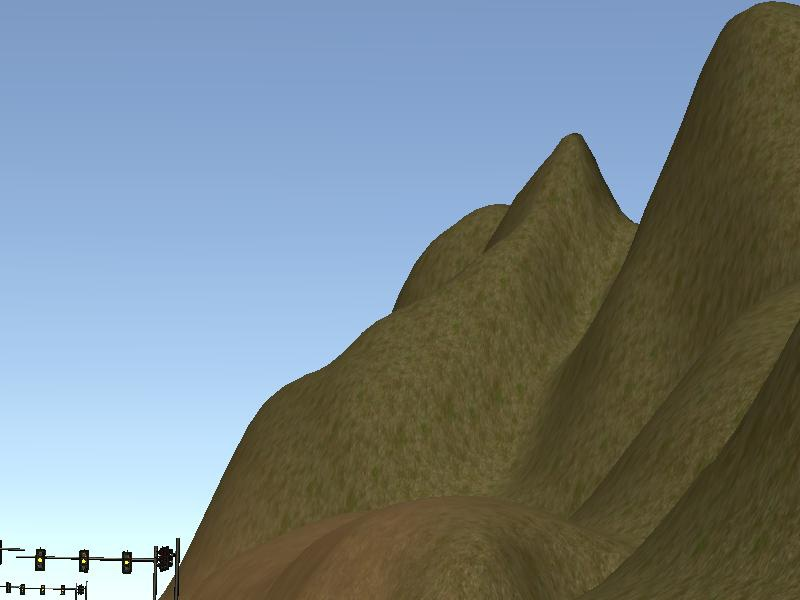yellow_light: (121, 549, 133, 574), (35, 549, 46, 572), (79, 551, 90, 573)
